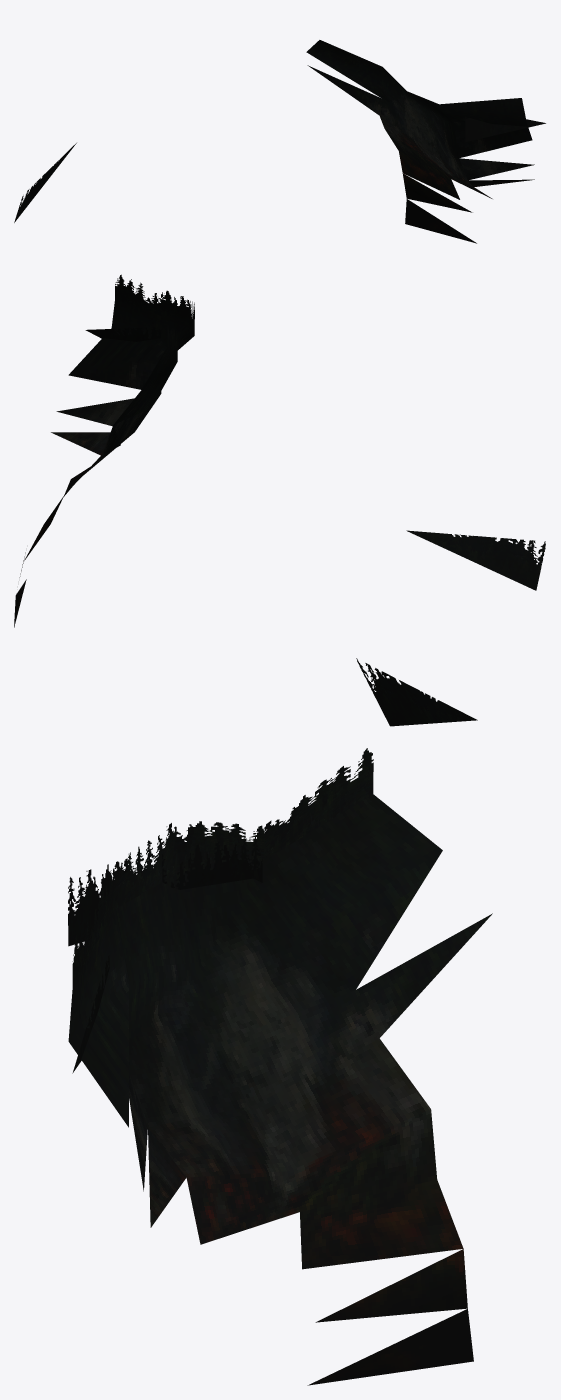
Rendered from cell_-3_-9.gltf.
3 views of the same model, one above another, from view 1: azimuth 30°, elevation 25°; view 2: azimuth 150°, elevation 25°; view 3: azimuth 270°, elevation 25° (orthographic). The views are drawn at different scales.
Parts seen in each view (by area): view 1: cell_-3_-9; view 2: cell_-3_-9; view 3: cell_-3_-9.
Boxes of the visible parts, left/top/right/bottom form: cell_-3_-9: left=14, top=40, right=545, bottom=243; cell_-3_-9: left=14, top=274, right=545, bottom=627; cell_-3_-9: left=68, top=658, right=492, bottom=1385.
Size of the model in its own units: 267 by 141 by 106.
2 materials, 2 textured.
